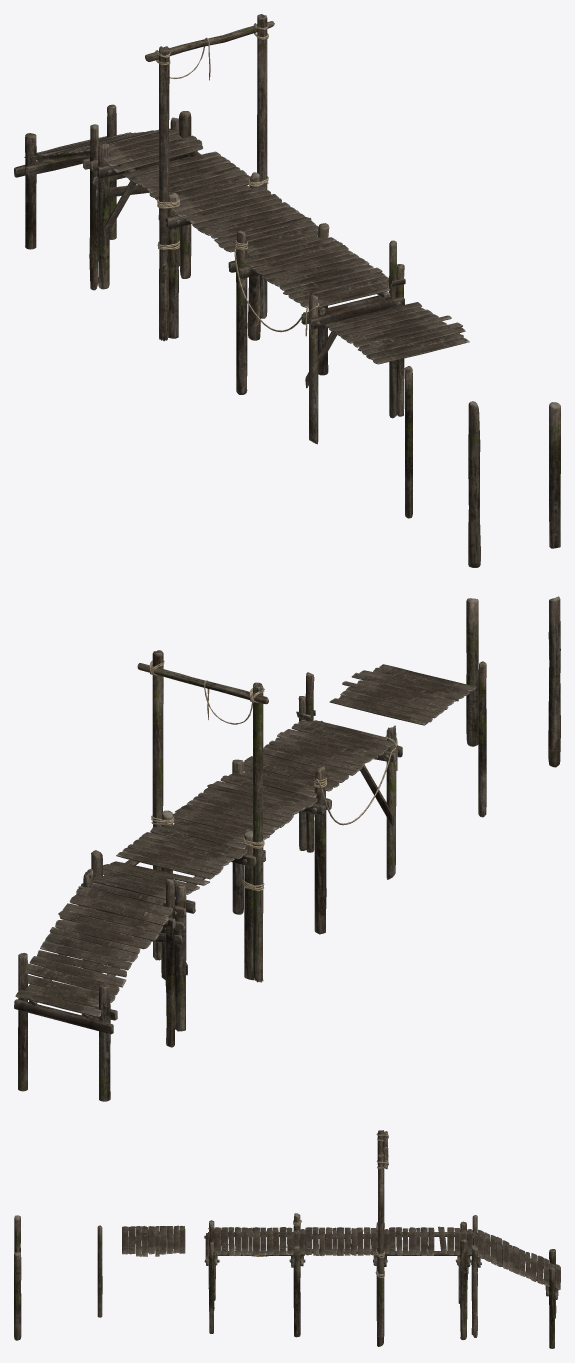
Rendered from ph-modular_wooden_pier.glb.
3 views of the same model, one above another, from view 1: azimuth 30°, elevation 25°; view 2: azimuth 150°, elevation 25°; view 3: azimuth 270°, elevation 25° (orthographic). The views are drawn at different scales.
Visible parts, largest first — view 1: modular_wooden_pier_planks, modular_wooden_pier_section_01, modular_wooden_pier_poles; view 2: modular_wooden_pier_planks, modular_wooden_pier_section_01, modular_wooden_pier_poles; view 3: modular_wooden_pier_planks, modular_wooden_pier_section_01, modular_wooden_pier_poles.
Part boxes in pixels (x1=…): modular_wooden_pier_planks: x1=14, y1=23, x2=469, y2=388; modular_wooden_pier_section_01: x1=25, y1=14, x2=404, y2=444; modular_wooden_pier_poles: x1=404, y1=366, x2=560, y2=567; modular_wooden_pier_planks: x1=14, y1=660, x2=476, y2=1034; modular_wooden_pier_section_01: x1=18, y1=650, x2=396, y2=1101; modular_wooden_pier_poles: x1=466, y1=596, x2=560, y2=817; modular_wooden_pier_planks: x1=122, y1=1132, x2=560, y2=1303; modular_wooden_pier_section_01: x1=204, y1=1130, x2=558, y2=1348; modular_wooden_pier_poles: x1=14, y1=1215, x2=102, y2=1340.
Bounding box in the file's own units: 3.1 × 7.51 × 19.03.
Materials: 2 (2 with a texture image).
